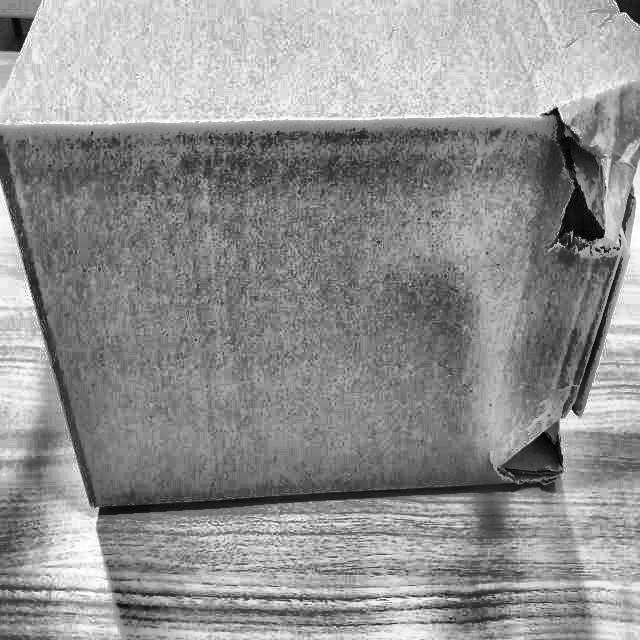box: (0, 0, 639, 529)
hole: (540, 103, 638, 260), (493, 399, 588, 495)
